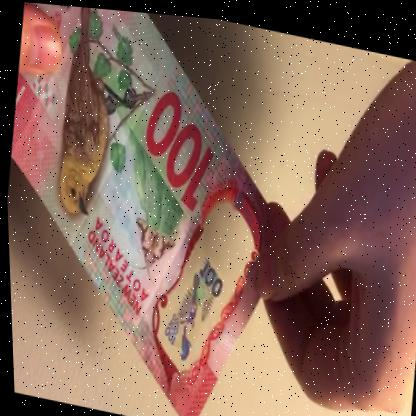100B: (153, 247, 229, 369)
